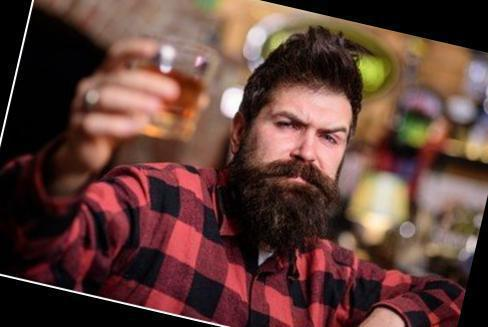Drunk: (250, 85, 346, 200)
